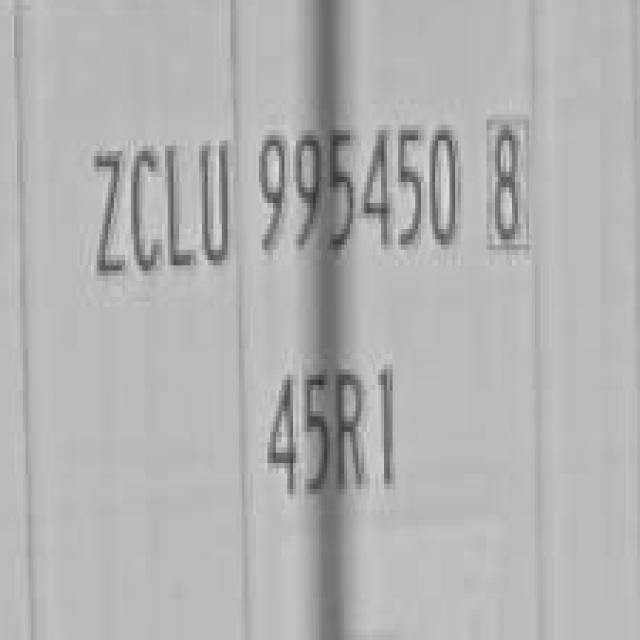dv: (477, 103, 538, 269)
owner: (81, 117, 234, 290)
serial: (250, 102, 461, 270)
size: (260, 349, 414, 522)
